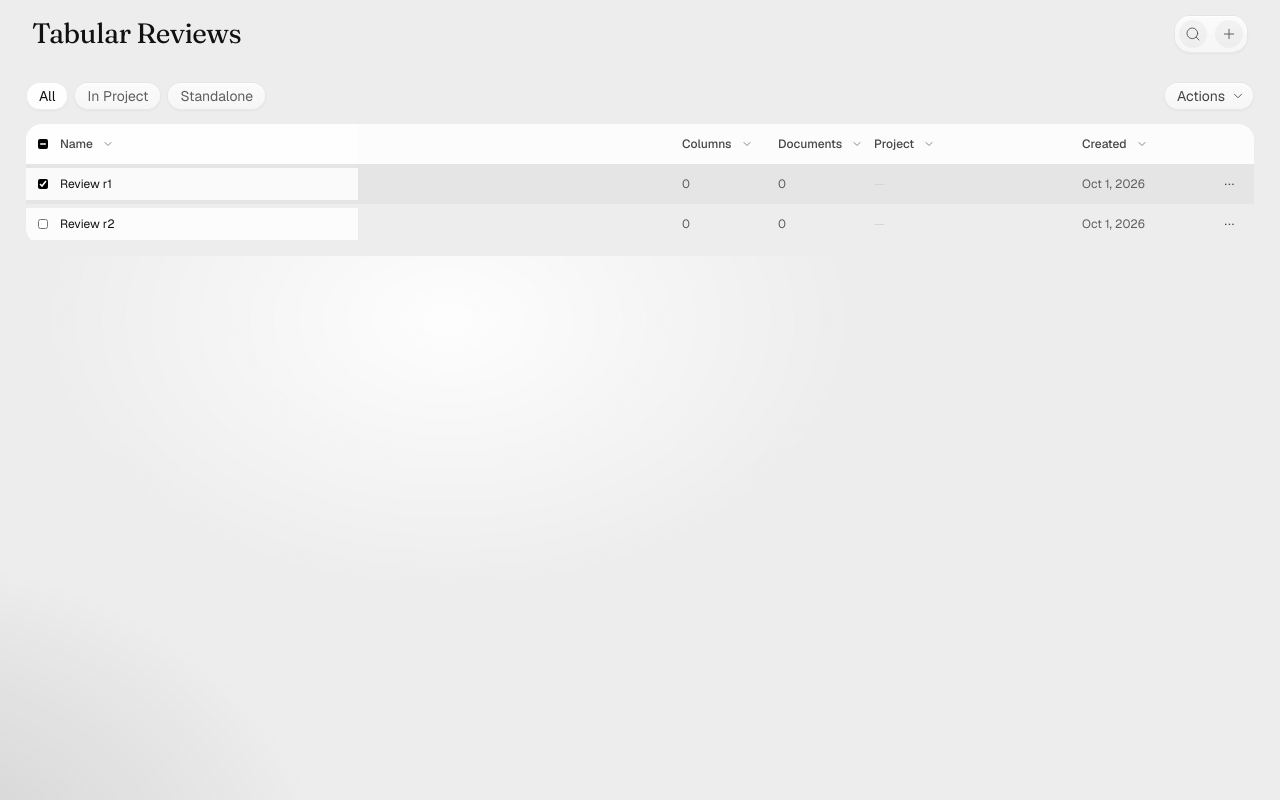
Test case: review overview selection actions › matches toolbar and right-click menus for 1 selected reviews
Step 1. Click the button "Actions" → (1209,96), box [1164,82,1254,110]
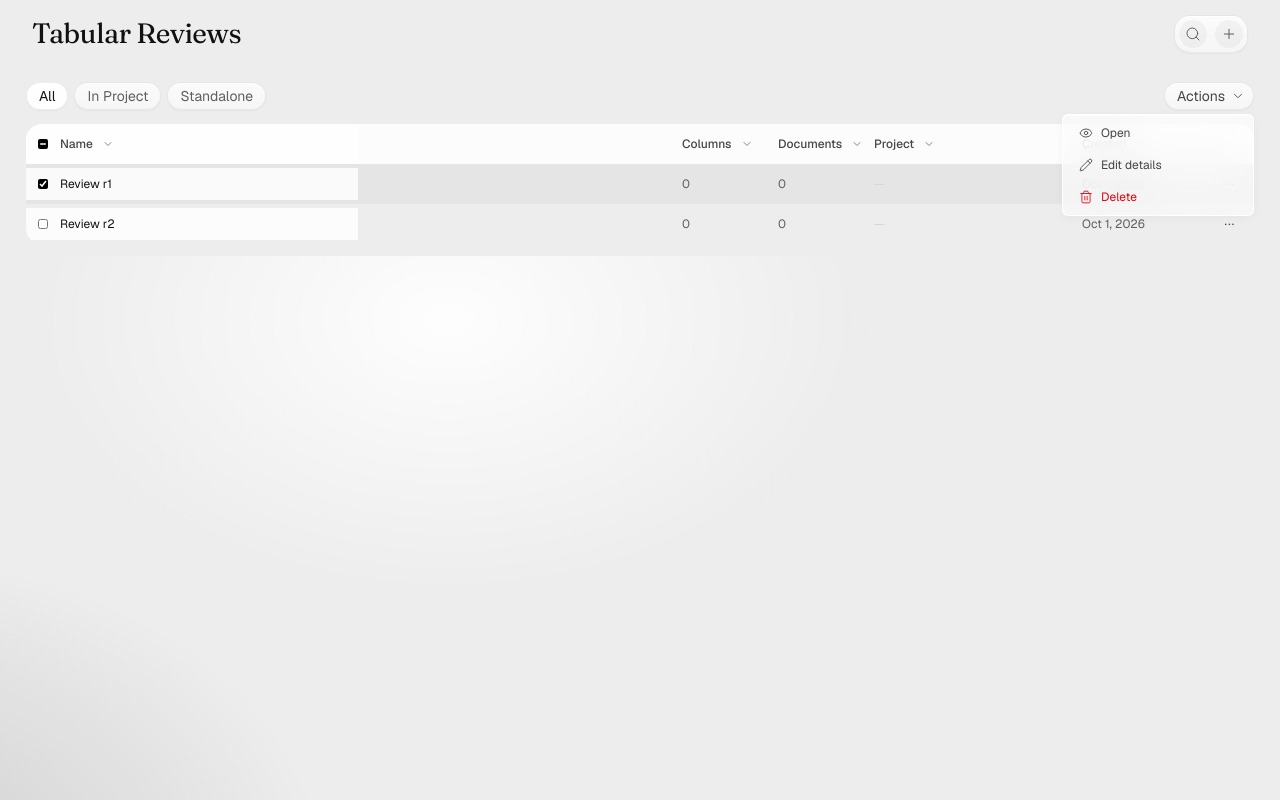
Expected: the menu items read "Open", "Edit details", "Delete", in this order, [1079,125,1130,141]; [1079,157,1162,173]; [1079,189,1137,205]
Step 2. Press Escape
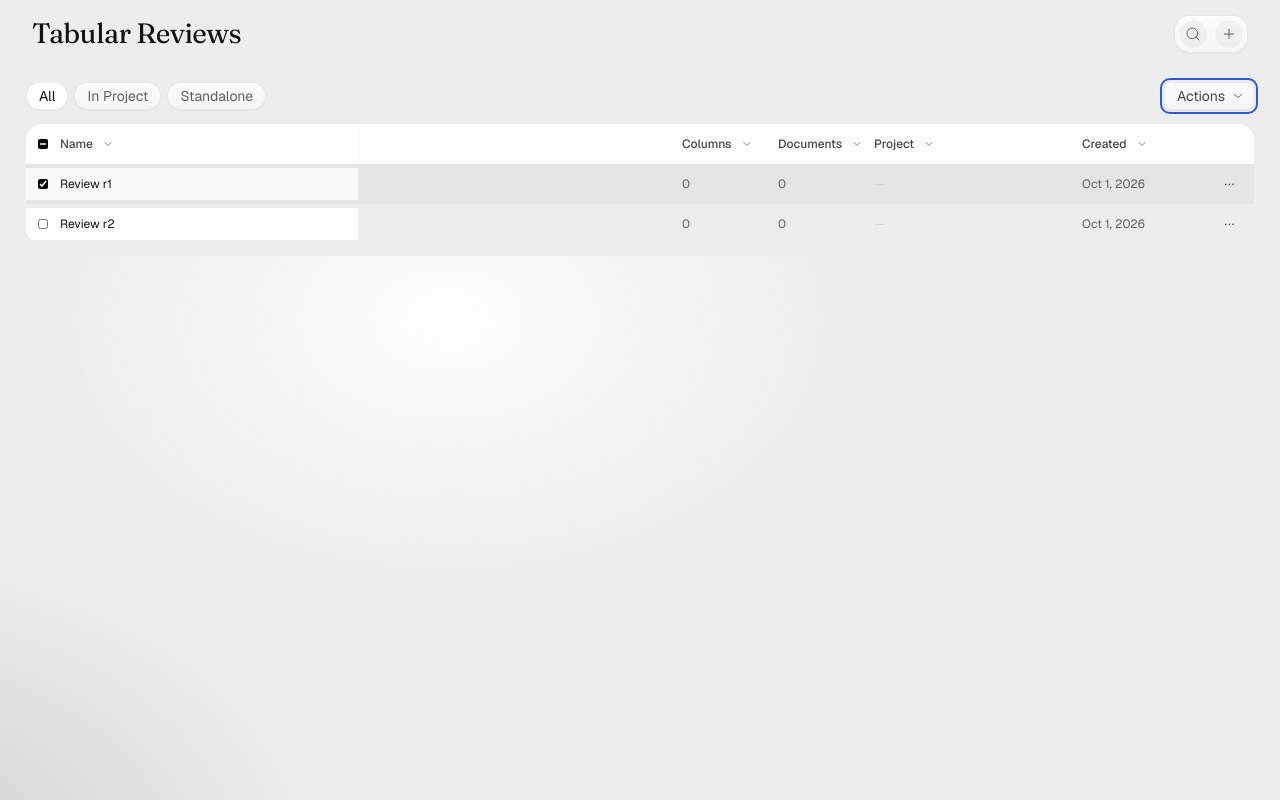
Step 3. Right-click the text "Review r1" → (86,184), box [60,176,112,192]
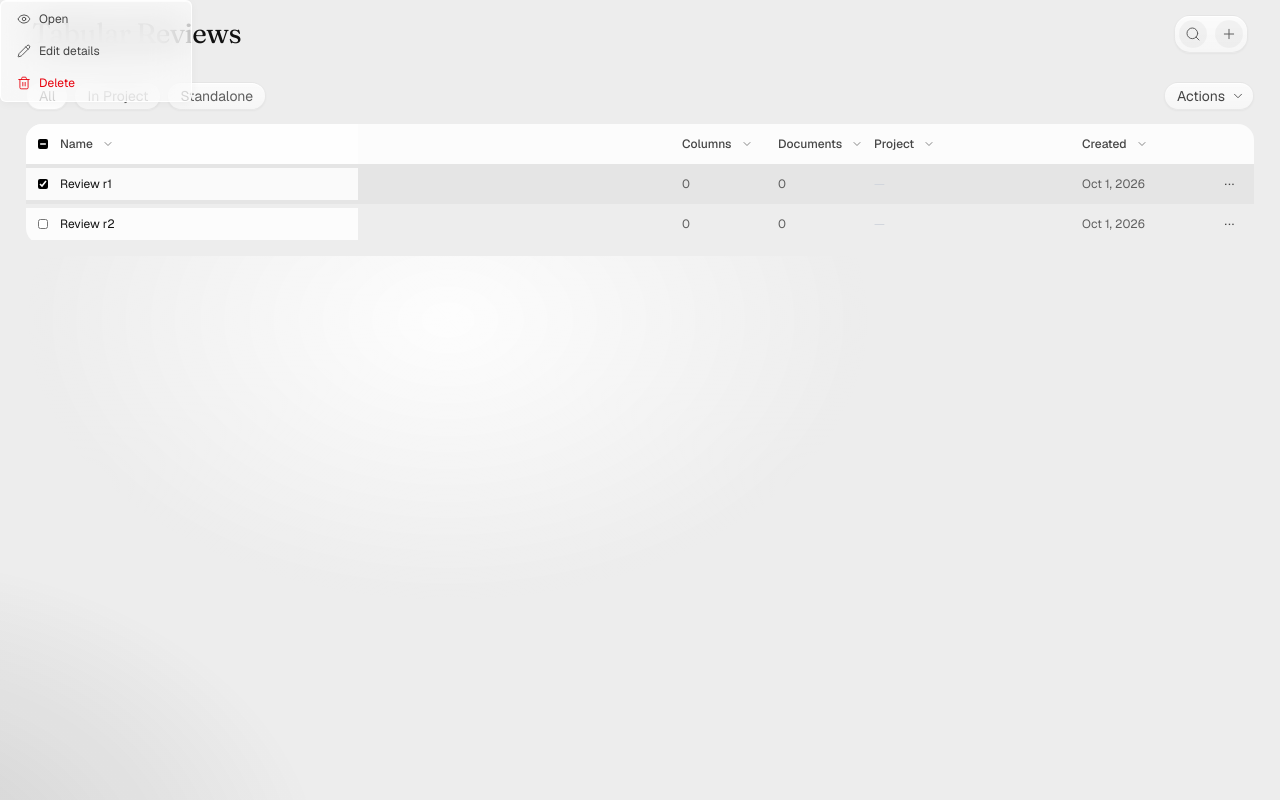
Expected: the menu items read "Open", "Edit details", "Delete", in this order, [17,11,68,27]; [17,43,100,59]; [17,75,75,91]
